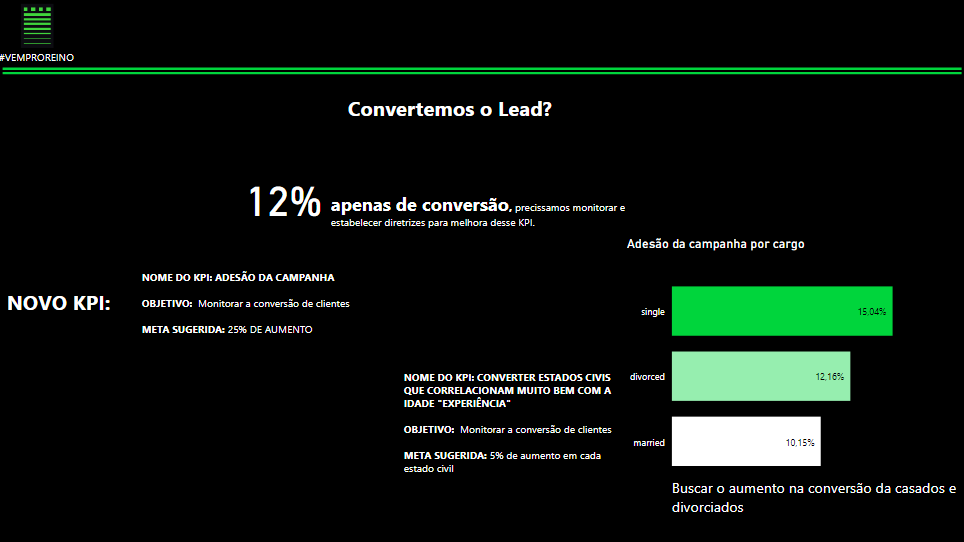

The dashboard page shown, as its layout file describes it:
{"tool":"powerbi","page":{"name":"ADESÃO DA CAMPANHA E ESTADO CIVIL","canvas":[1280,720],"ordinal":2},"visuals":[{"type":"basicShape","box":[0,78.9,1280,22.8],"z":0},{"type":"basicShape","box":[0,79.9,1280,32.3],"z":1000},{"type":"image","box":[24.7,0,59.9,68.5],"z":2000},{"type":"textbox","box":[187.8,350.3,663.1,131.4],"z":3000},{"type":"textbox","box":[883.8,623.1,396.2,96.5],"z":4000},{"type":"textbox","box":[0,61.8,127.4,28.5],"z":6000},{"type":"textbox","box":[457.9,118.1,428.9,83.7],"z":7000},{"type":"textbox","box":[10.3,373.7,153.2,83.7],"z":8000},{"type":"card","fields":{"Values":["campaigns.##ADERIDO_META"]},"box":[180.8,180.8,395.5,151.7],"z":9000},{"type":"clusteredBarChart","title":"Adesão da campanha por cargo","fields":{"Y":["campaigns.##marital_job"],"Category":["campaigns.marital"]},"box":[824.6,309.8,455.4,345.4],"z":9002},{"type":"textbox","box":[436.1,245.7,397.1,96.8],"z":9003},{"type":"textbox","box":[531.6,482.5,303.1,172.7],"z":9004}]}

Visuals, with their boxes on the page's 1280x720 design canvas (x1, y1, x2, y2). These are canvas units, not pixel positions in the 964x542 screenshot, which may show the page scaled, cropped or inside an application window:
basicShape: BBox(0, 79, 1280, 102)
basicShape: BBox(0, 80, 1280, 112)
image: BBox(25, 0, 85, 68)
textbox: BBox(188, 350, 851, 482)
textbox: BBox(884, 623, 1280, 720)
textbox: BBox(0, 62, 127, 90)
textbox: BBox(458, 118, 887, 202)
textbox: BBox(10, 374, 164, 457)
card - campaigns.##ADERIDO_META: BBox(181, 181, 576, 332)
"Adesão da campanha por cargo" clusteredBarChart: BBox(825, 310, 1280, 655)
textbox: BBox(436, 246, 833, 342)
textbox: BBox(532, 482, 835, 655)
